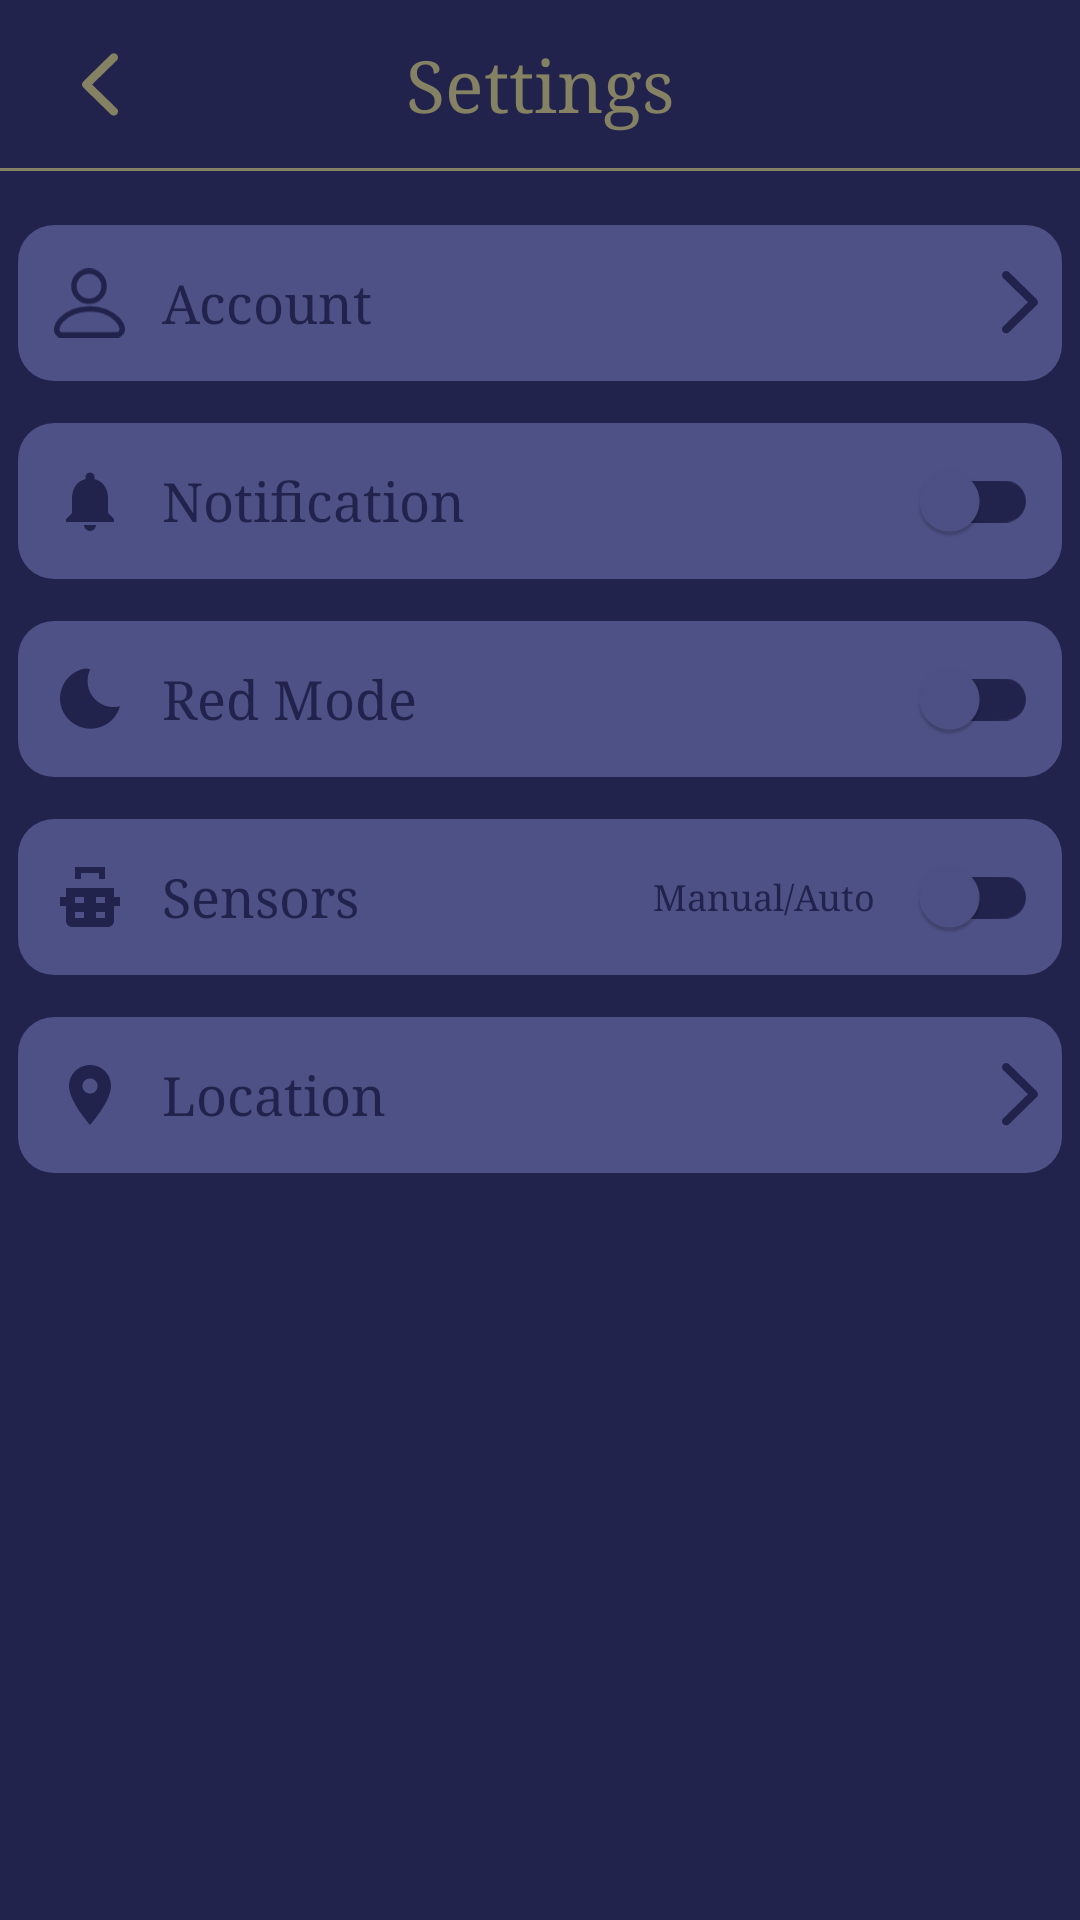

Where to tap for icons on this 1080 × 1920 app screen, as point (x, y):
Back: point (100, 84)
